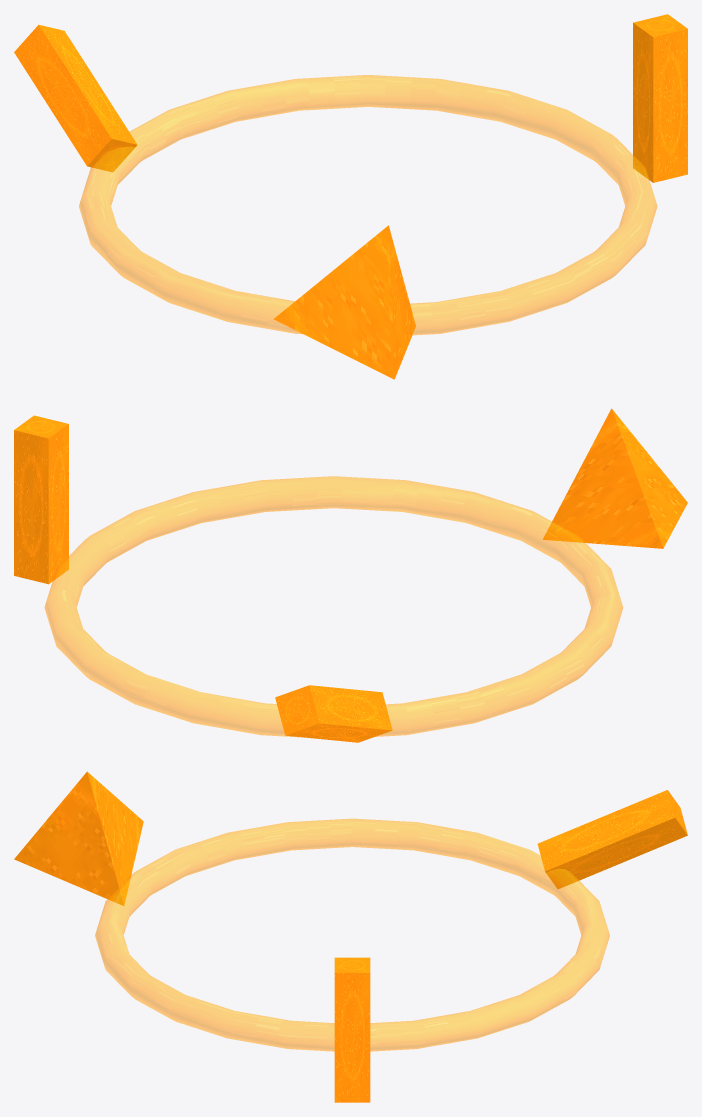
The model's file is story-marker-amber.high.glb.
3 renders of one model, top to bottom at view 1: azimuth 30°, elevation 25°; view 2: azimuth 150°, elevation 25°; view 3: azimuth 270°, elevation 25°, orthographic. The views are drawn at different scales.
Visible parts, largest first — view 1: story-marker-amber-transparent|#ffaa00|#ffaa00|0.38|1|0.04|0, story-marker-amber-body; view 2: story-marker-amber-transparent|#ffaa00|#ffaa00|0.38|1|0.04|0, story-marker-amber-body; view 3: story-marker-amber-transparent|#ffaa00|#ffaa00|0.38|1|0.04|0, story-marker-amber-body.
Part boxes in pixels (bbox=[...]): story-marker-amber-transparent|#ffaa00|#ffaa00|0.38|1|0.04|0: bbox=[79, 75, 657, 335]; story-marker-amber-body: bbox=[14, 14, 687, 379]; story-marker-amber-transparent|#ffaa00|#ffaa00|0.38|1|0.04|0: bbox=[44, 476, 623, 737]; story-marker-amber-body: bbox=[14, 408, 687, 742]; story-marker-amber-transparent|#ffaa00|#ffaa00|0.38|1|0.04|0: bbox=[95, 818, 609, 1051]; story-marker-amber-body: bbox=[14, 771, 687, 1102].
Size of the model in its own units: 0.805 by 0.217 by 0.942.
Materials: 2 (2 with a texture image).
